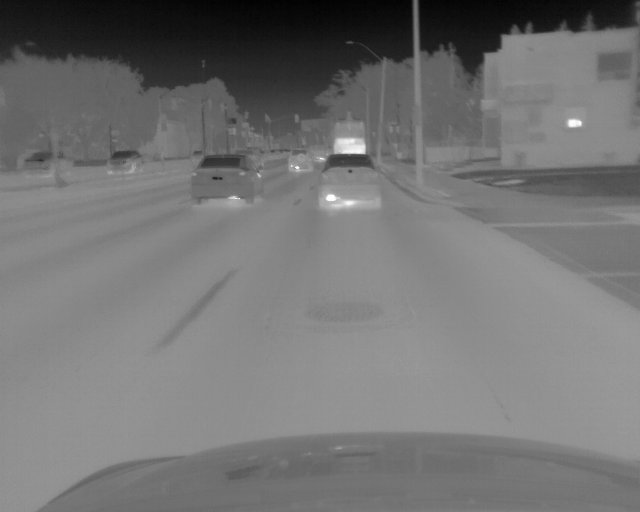car: (316, 154, 382, 210), (190, 155, 265, 204), (24, 152, 75, 178), (333, 119, 367, 156), (107, 148, 146, 175), (287, 148, 312, 173), (309, 144, 329, 163), (190, 149, 203, 162)
